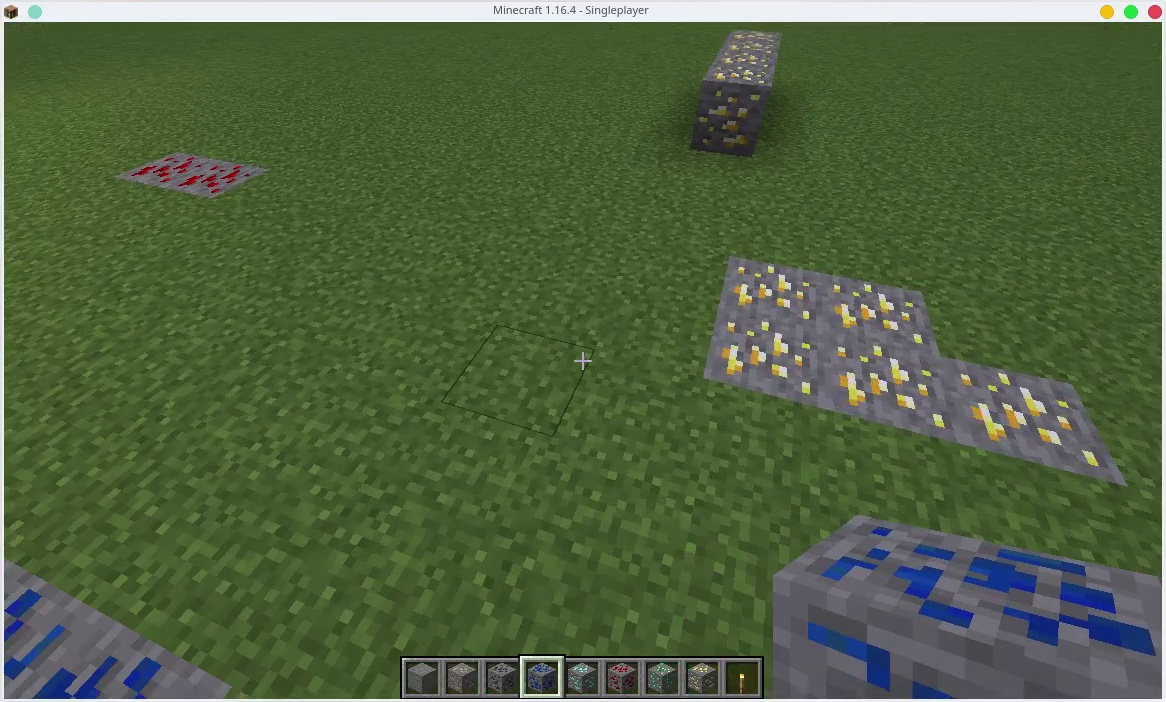gold: (958, 368, 1110, 478), (697, 326, 825, 407), (831, 341, 946, 431), (685, 64, 778, 156), (825, 277, 935, 342), (732, 248, 815, 326), (731, 27, 778, 41), (717, 53, 771, 64), (720, 42, 772, 48)
